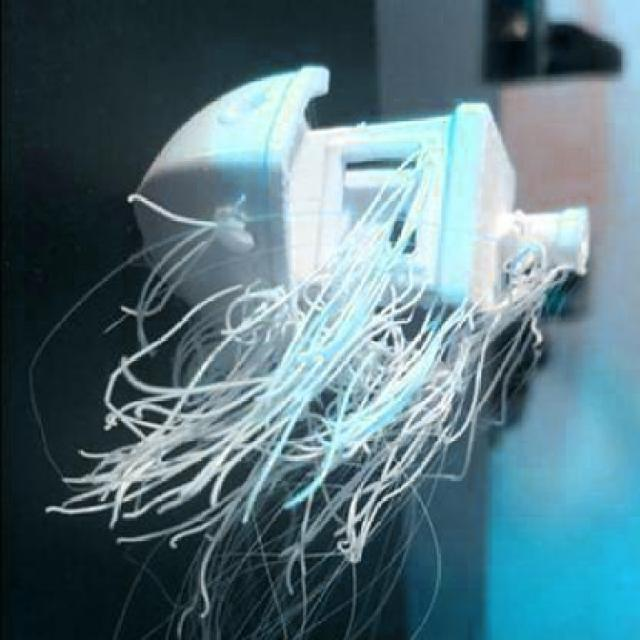spaghetti: (29, 146, 572, 639)
